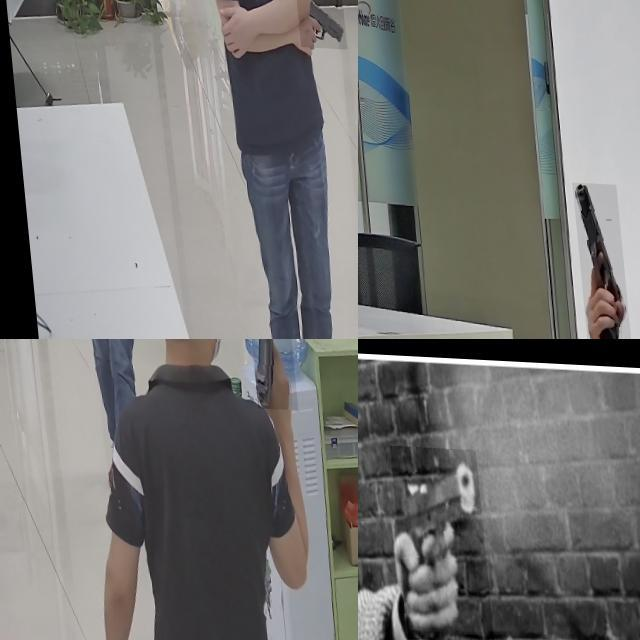gun-knife-thesis - v11 Yolov5 augmented: (388, 442, 488, 639), (567, 179, 625, 339), (239, 339, 291, 412), (291, 0, 341, 45)
